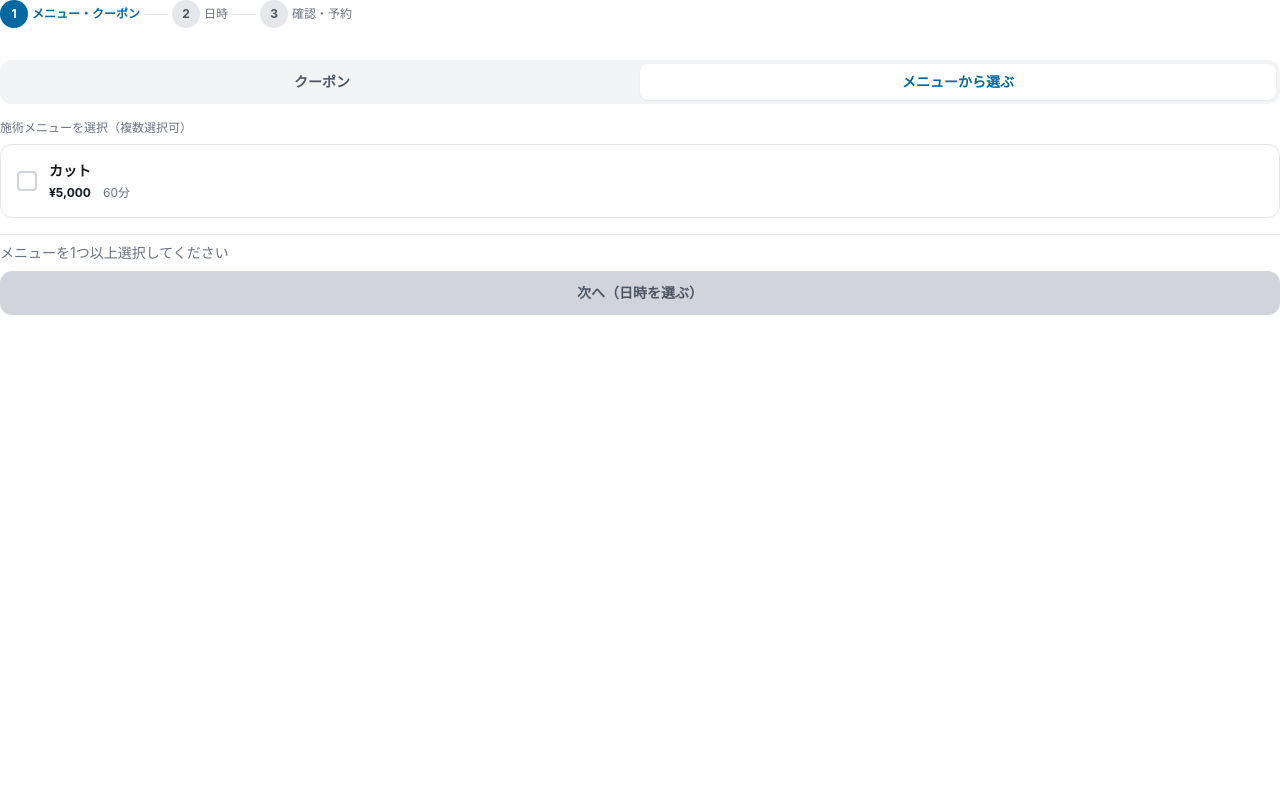
Test: defect4: キャンセルポリシー表示（確認ステップ） › cancelPolicy が null（未設定施設）では表示されない
The image size is (1280, 791).
Click the text "カット" at {"x": 70, "y": 171}, box top-left (49, 161), bottom-right (91, 181)
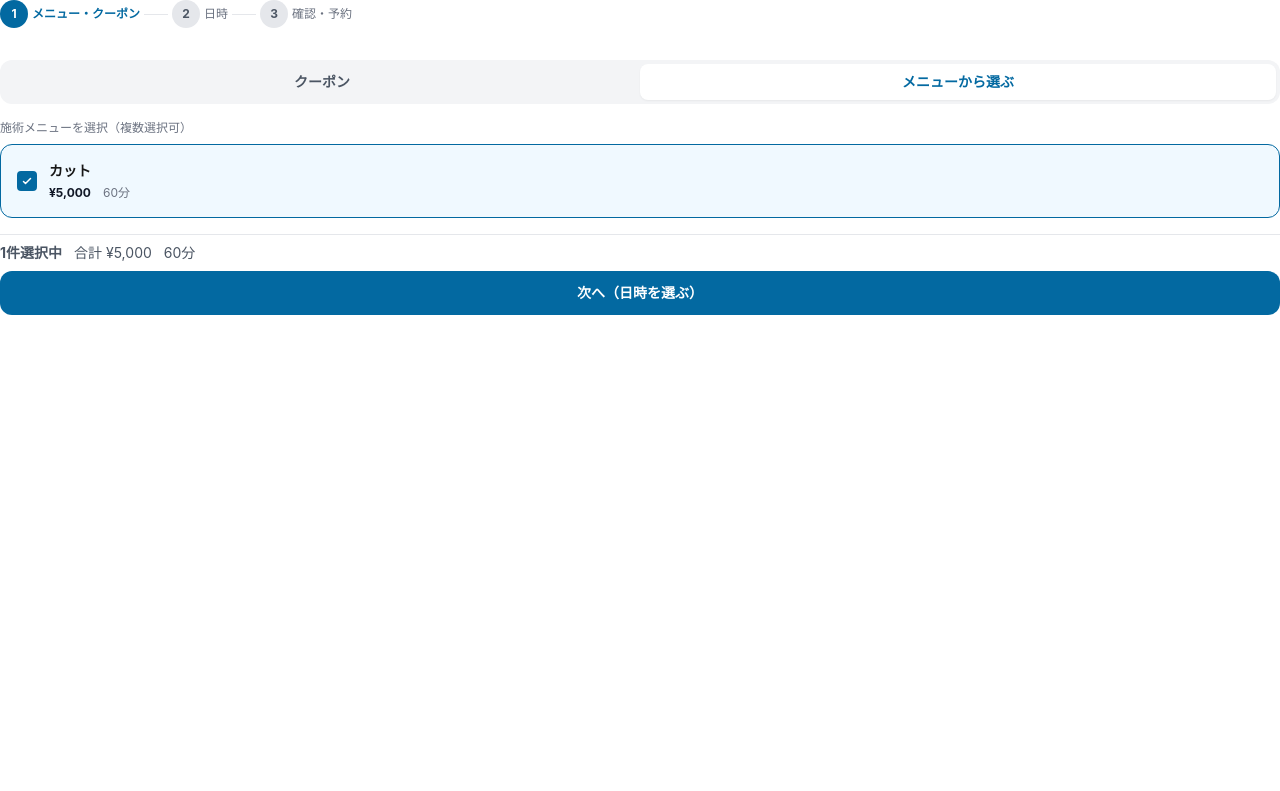
Click the button "次へ（日時を選ぶ）" at {"x": 640, "y": 293}, box top-left (0, 271), bottom-right (1279, 315)
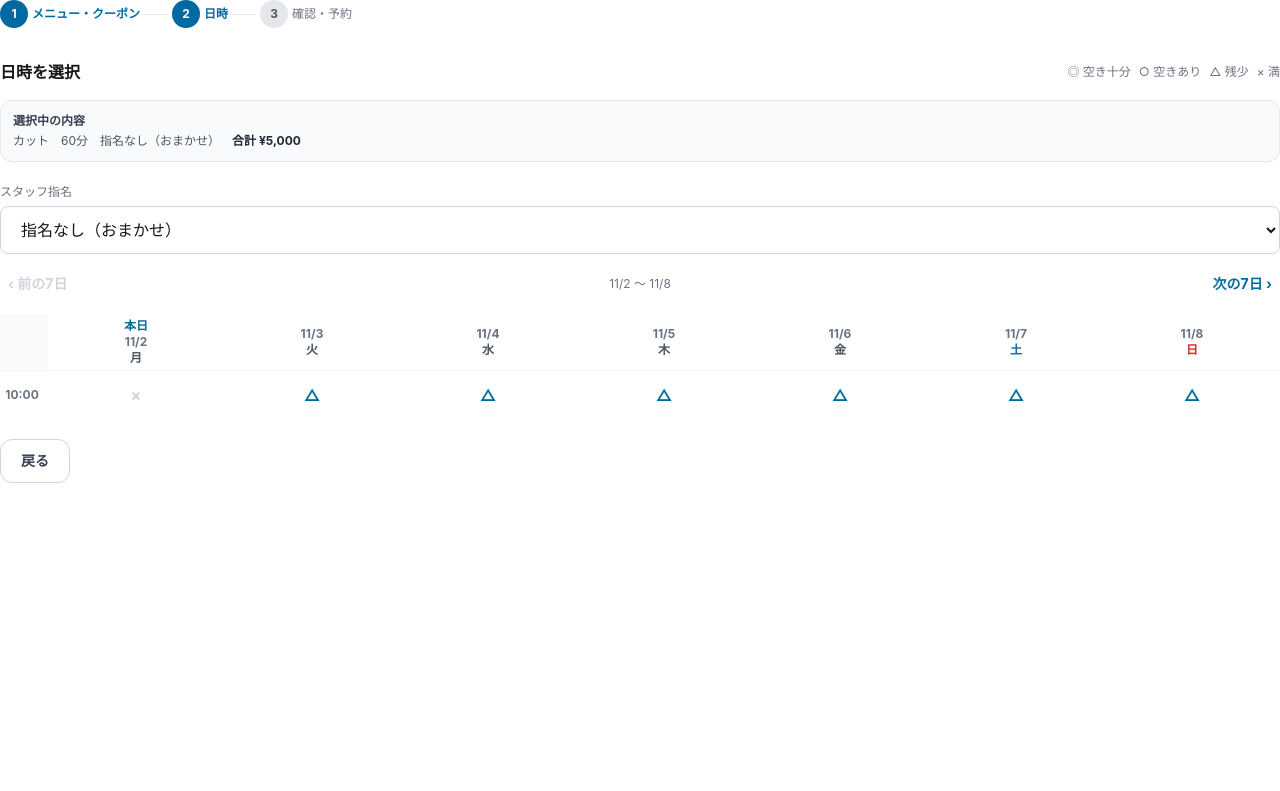
Click the 1st button "△" at {"x": 312, "y": 395}, box top-left (226, 373), bottom-right (398, 417)
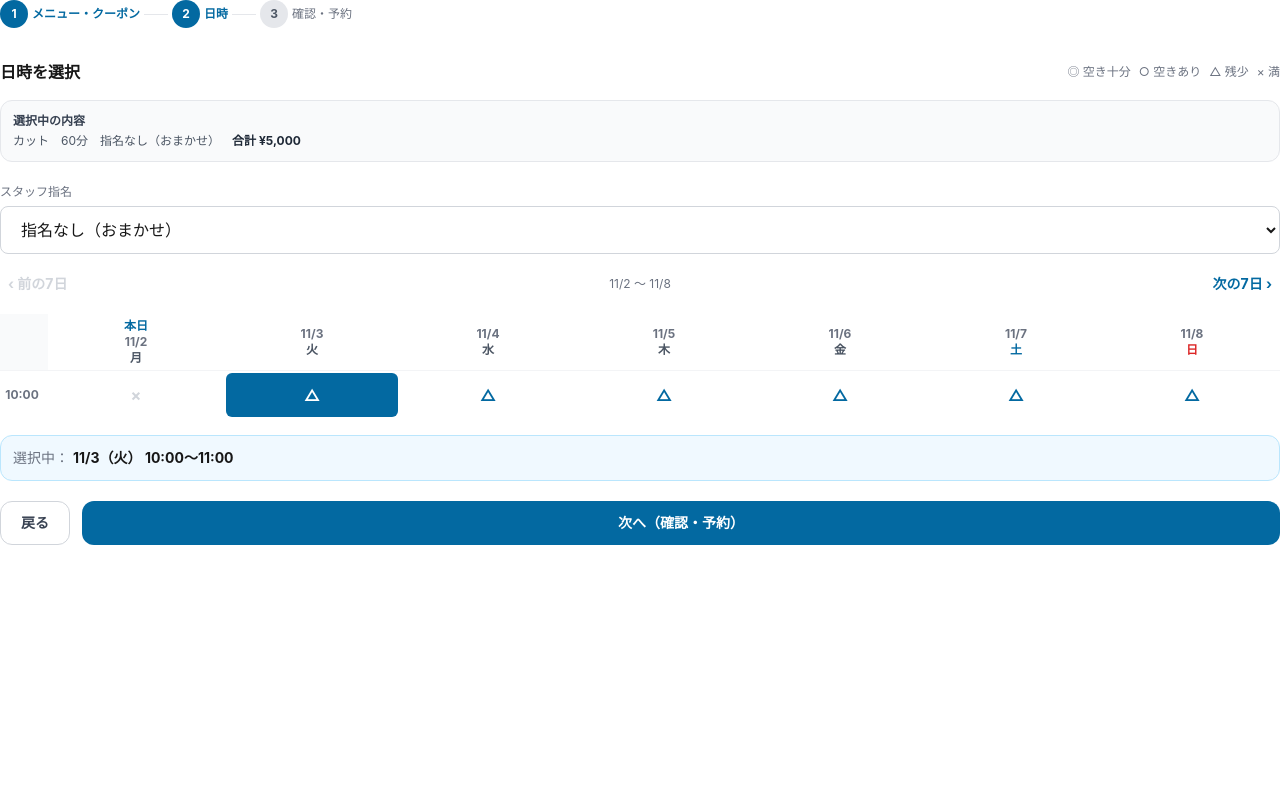
Click the button "次へ（確認・予約）" at {"x": 681, "y": 523}, box top-left (82, 501), bottom-right (1279, 545)
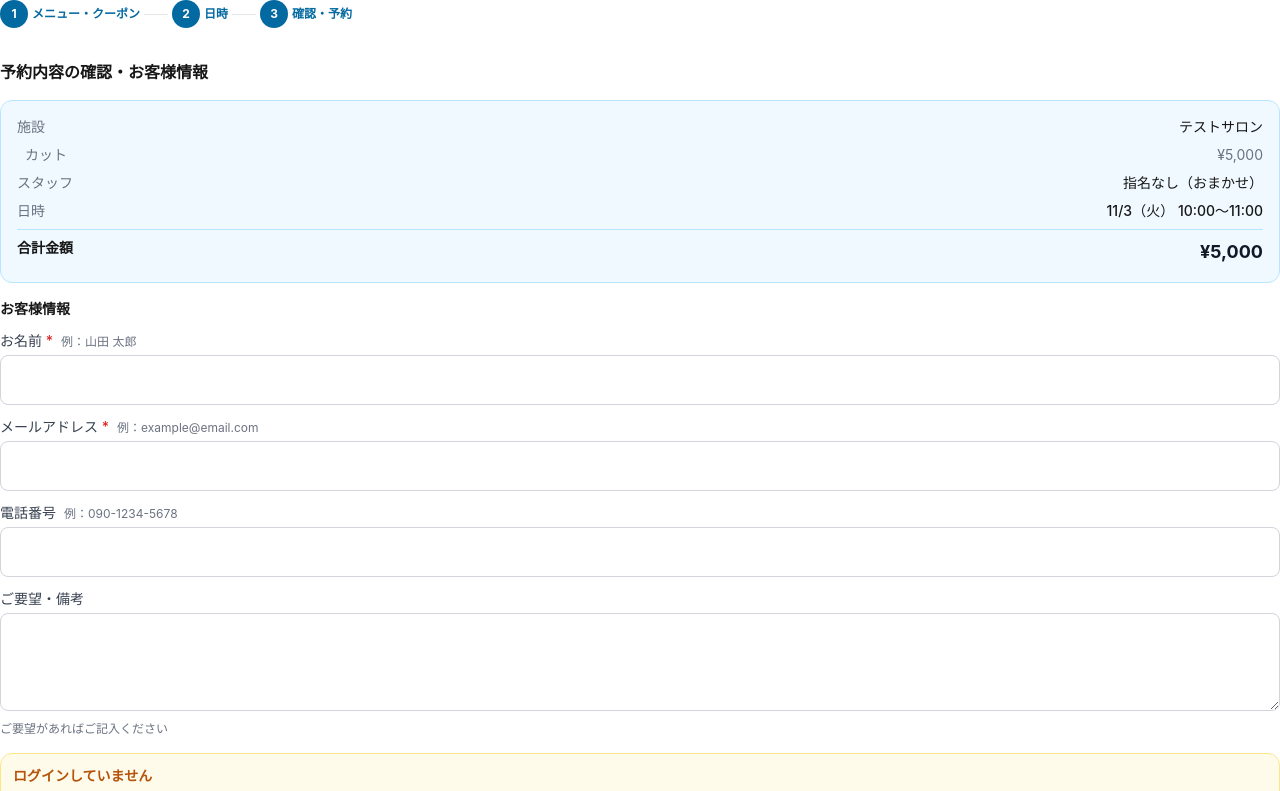
Expected: the heading "予約内容の確認・お客様情報" is shown, top-left (0, 62), bottom-right (208, 82)
